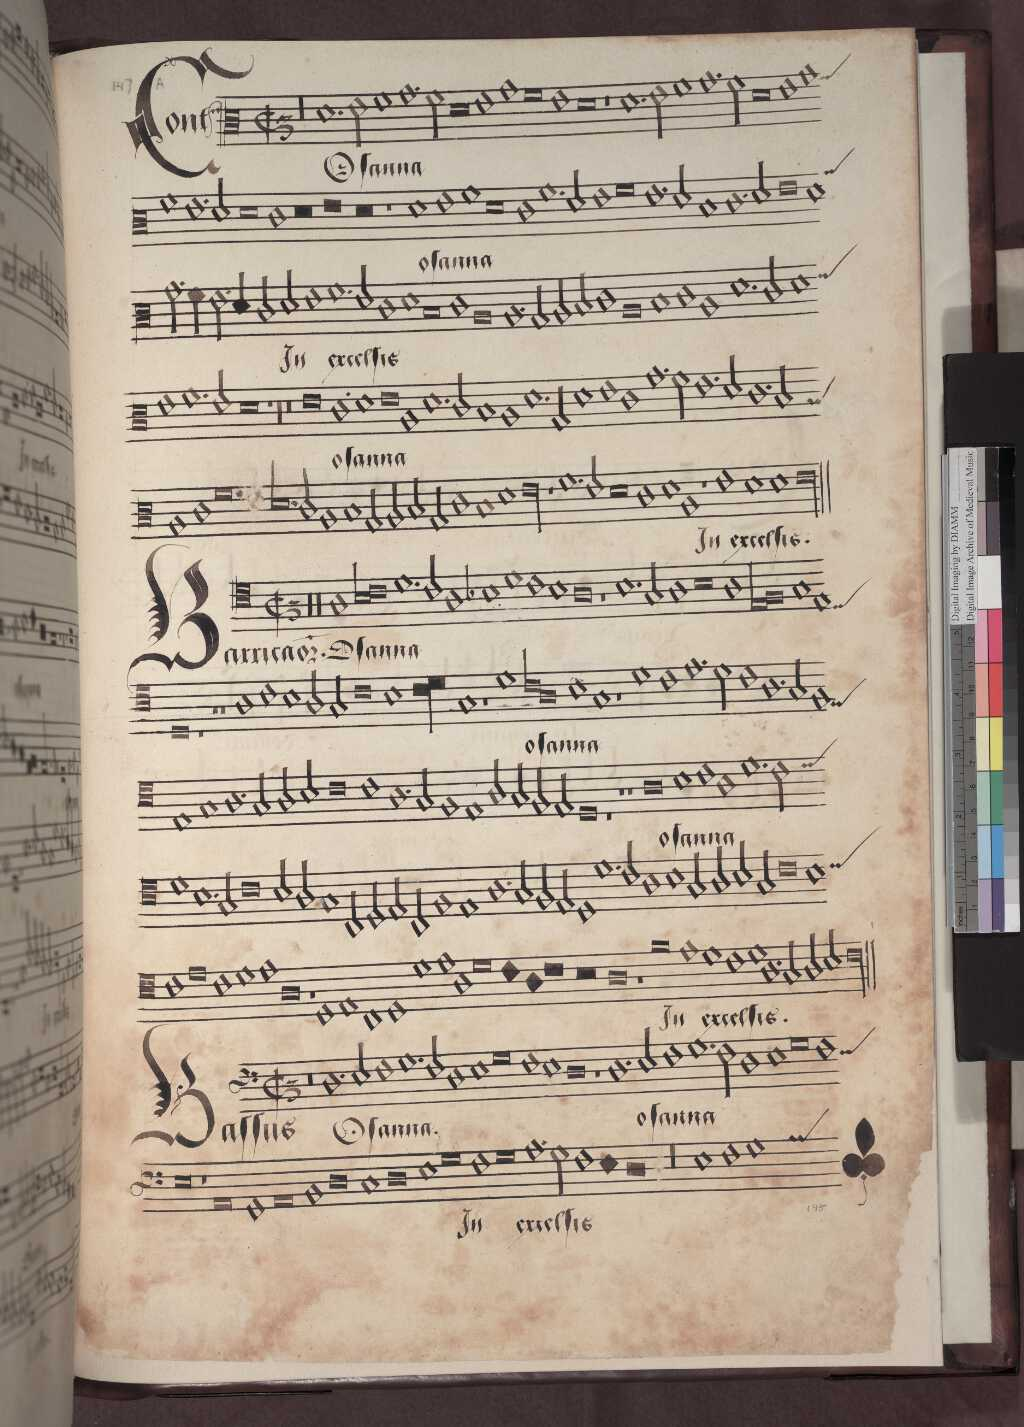breve rest: (281, 384, 296, 441)
breve_5: (295, 382, 330, 418), (375, 379, 405, 415)
breve_6: (232, 391, 264, 423)
c clef_7: (125, 386, 154, 446)
custos_9: (806, 378, 826, 418)
longa rest: (272, 384, 286, 445)
minim_10: (550, 383, 573, 439)
minim_4: (669, 362, 692, 424)
minim_5: (209, 384, 234, 424)
minim_6: (721, 349, 744, 405)
minim_7: (449, 384, 472, 427)
minim_8: (774, 371, 795, 417)
point: (537, 388, 553, 410), (438, 388, 452, 410), (707, 366, 721, 388), (760, 374, 775, 397), (341, 383, 355, 403), (658, 362, 672, 379), (198, 387, 211, 404)
semibreve rest: (262, 384, 277, 441)
semibreve_3: (642, 356, 666, 397)
semibreve_4: (180, 384, 203, 419)
semibreve_5: (154, 384, 180, 427), (694, 365, 716, 405), (597, 369, 619, 407)
semibreve_6: (571, 374, 596, 415), (420, 380, 444, 421), (354, 382, 377, 422), (520, 378, 543, 415)
semibreve_7: (328, 389, 354, 433), (618, 379, 642, 420), (745, 373, 767, 414)
semibreve_8: (473, 391, 496, 430)
semibreve_9: (498, 396, 522, 437), (397, 402, 421, 440)
